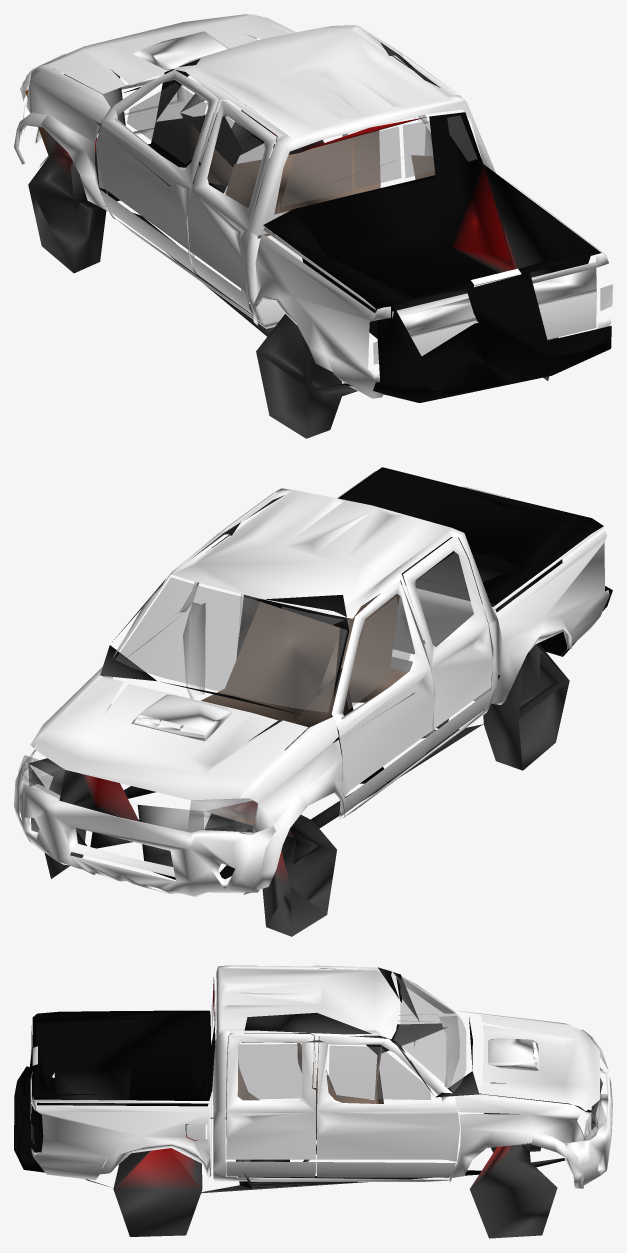
File: frontier-mid.glb
3 renders of one model, top to bottom at view 1: azimuth 30°, elevation 25°; view 2: azimuth 150°, elevation 25°; view 3: azimuth 270°, elevation 25°, orthographic. The views are drawn at different scales.
Visible parts, largest first — view 1: body, trim, glass; view 2: body, trim, glass; view 3: body, trim, glass.
Boxes of the visible parts, x1,y1,x2,y2 form: body: (14, 14, 611, 398); trim: (25, 34, 611, 438); glass: (20, 26, 612, 364); body: (14, 471, 609, 897); trim: (28, 467, 612, 936); glass: (18, 549, 473, 834); body: (30, 965, 612, 1188); trim: (14, 967, 602, 1238); glass: (31, 974, 607, 1143).
Bounding box in the file's own units: 2.1 × 1.98 × 5.17.
